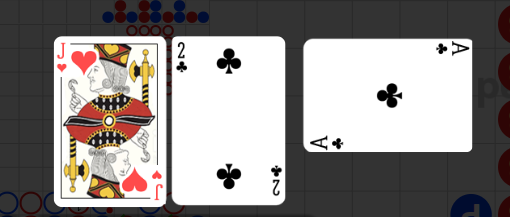2C: (175, 41, 189, 75)
AC: (432, 41, 470, 59)
JH: (55, 42, 68, 74)
